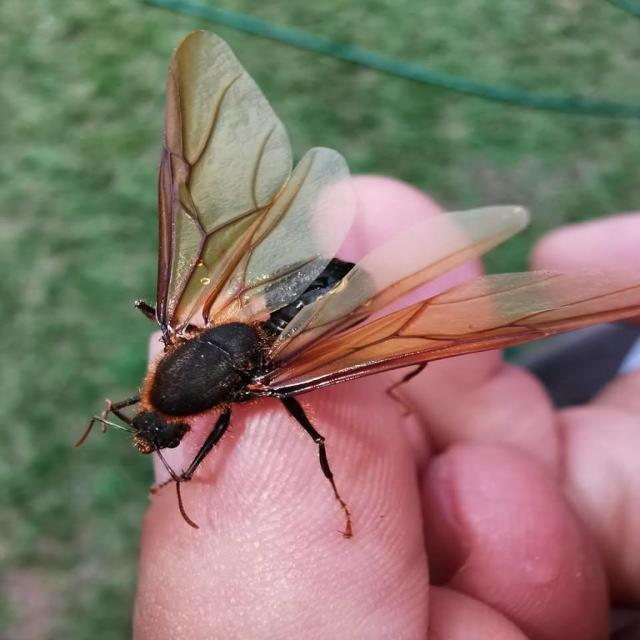Alive-Male-Alate: (73, 28, 640, 541)
